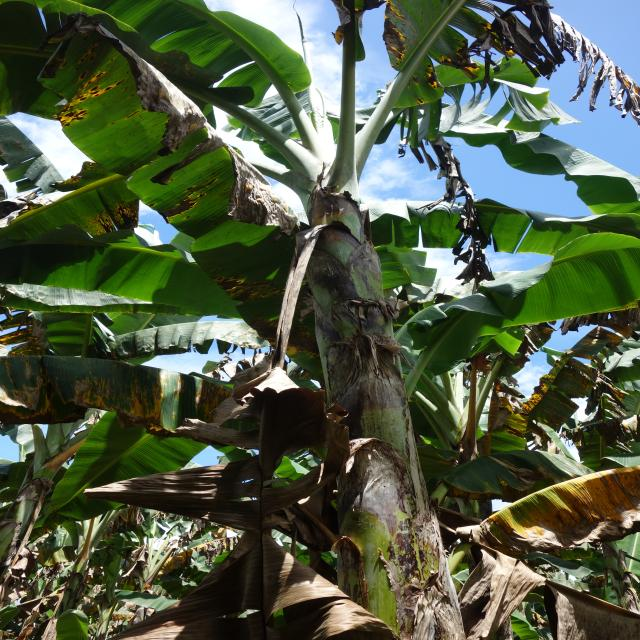Banana-plant: (292, 163, 488, 640)
